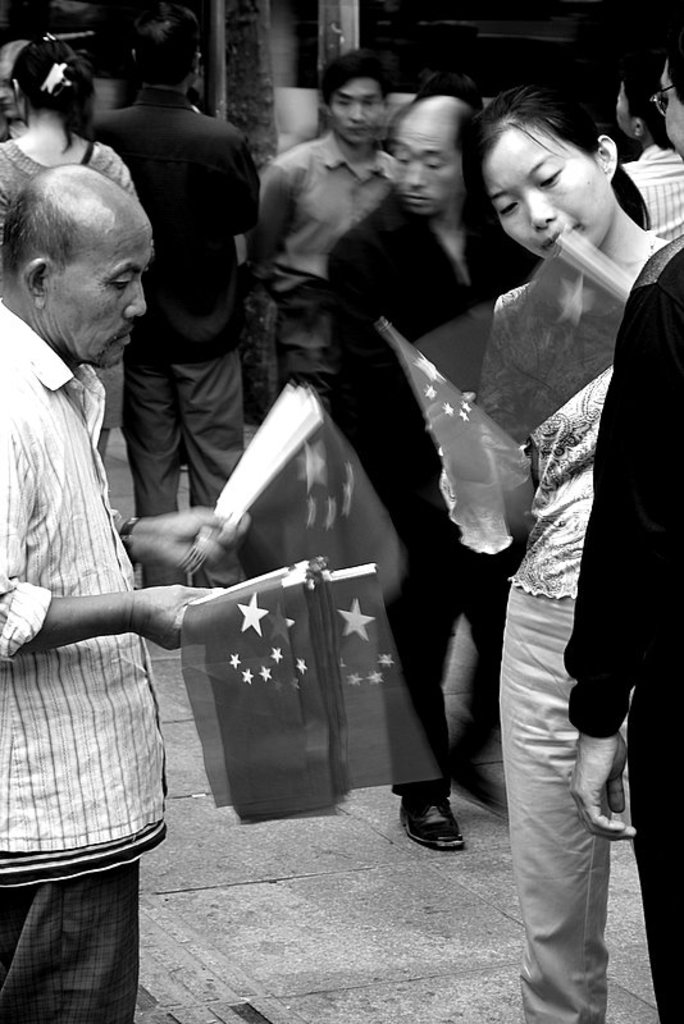Footwear: (387, 788, 473, 858)
